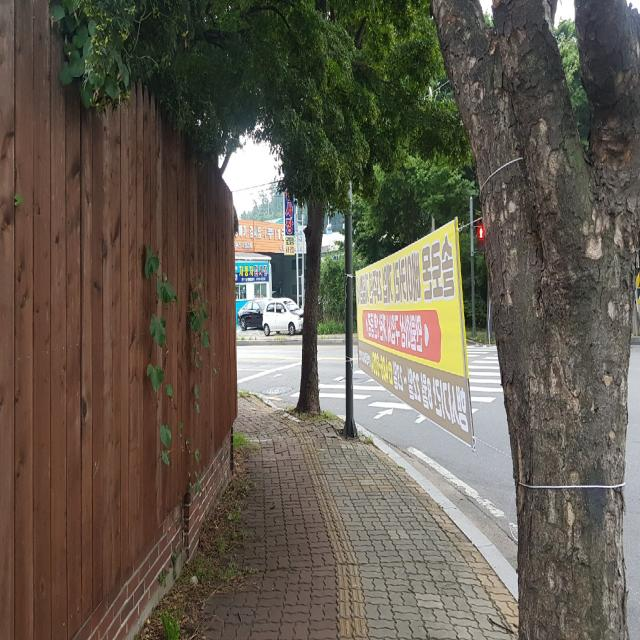빨간불: (478, 228, 483, 255)
횡단보도: (288, 343, 504, 425), (470, 346, 496, 396)
